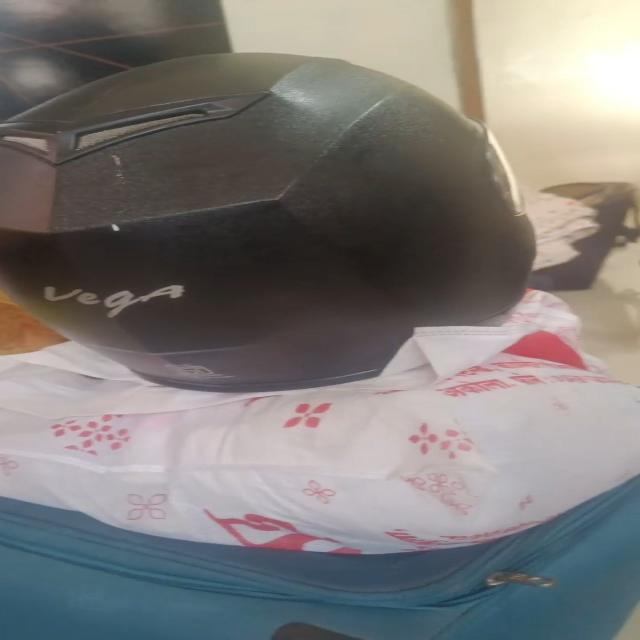Helmet: (0, 50, 538, 393)
